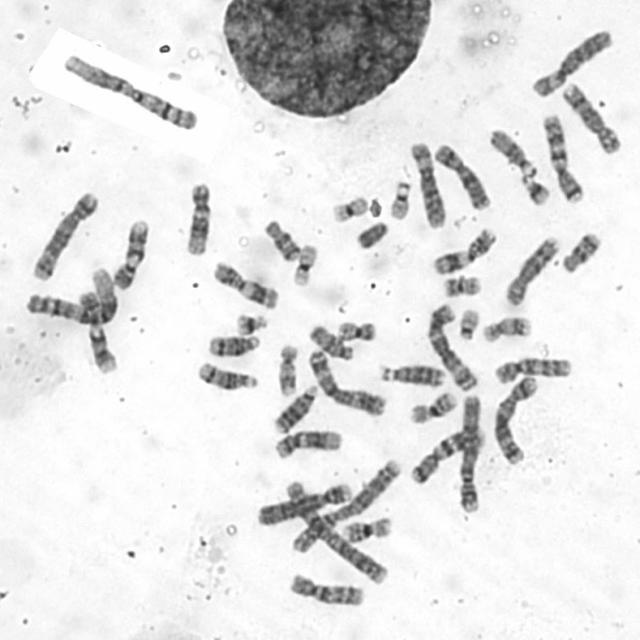A1: (61, 50, 200, 132), (22, 264, 120, 326)
A2: (287, 454, 404, 556), (281, 476, 390, 585)
A3: (305, 345, 389, 418), (425, 300, 479, 392)
B4: (253, 479, 354, 528), (456, 390, 483, 515)
B5: (28, 187, 100, 283), (490, 372, 540, 466)
C10: (285, 570, 366, 608), (492, 353, 572, 385)
C11: (209, 258, 280, 311), (429, 225, 499, 276)
C12: (182, 179, 214, 257), (272, 426, 344, 460)
C6: (527, 25, 613, 99), (407, 138, 448, 230)
C7: (407, 423, 488, 487), (540, 110, 586, 204)
C8: (559, 80, 623, 156), (501, 232, 562, 308)
C9: (76, 287, 122, 376), (110, 214, 152, 292)
D13: (269, 380, 320, 436), (376, 360, 447, 389)
D14: (194, 358, 258, 392), (204, 332, 262, 358)
D15: (486, 125, 535, 175), (307, 320, 356, 362)
E16: (406, 387, 458, 425), (337, 513, 395, 544)
E17: (480, 313, 534, 344), (274, 341, 300, 398)
E18: (559, 227, 603, 275), (261, 216, 301, 262)
F19: (328, 193, 370, 224), (290, 241, 318, 287)
F20: (335, 316, 378, 343), (440, 272, 482, 298)
G21: (519, 174, 552, 207), (233, 310, 269, 337)
G22: (386, 178, 413, 220), (456, 305, 481, 342)
X: (431, 140, 492, 212)
Y: (353, 218, 390, 249), (366, 195, 384, 218)
